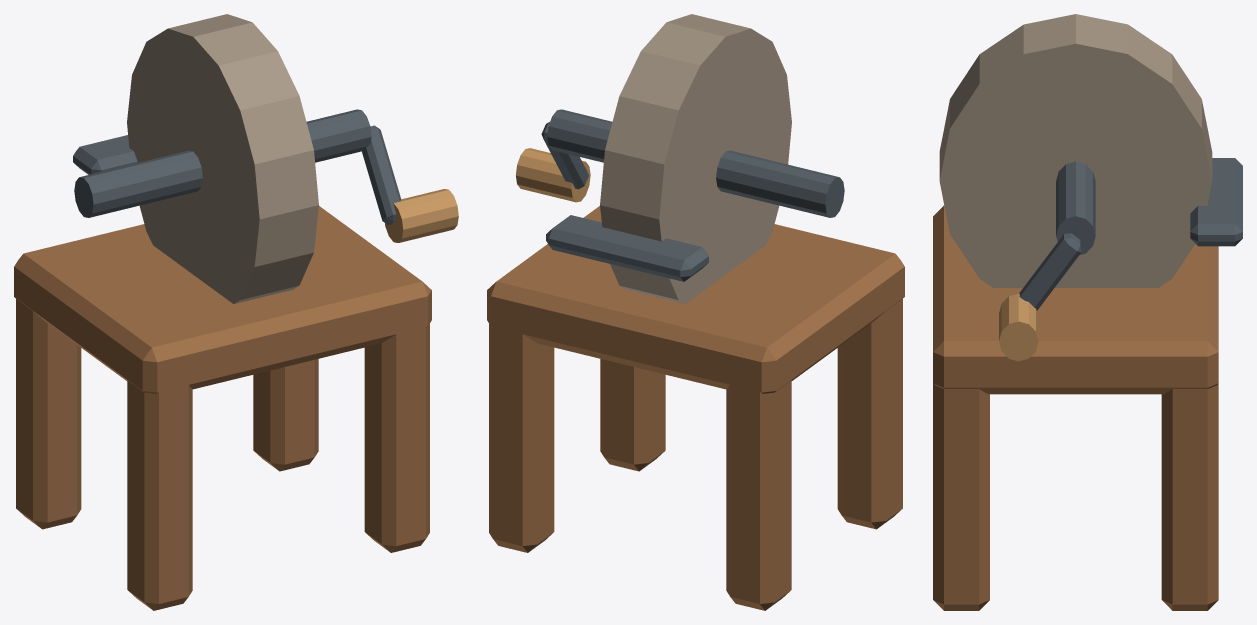
The model's file is smith_grindstone.glb.
3 views of the same model, side by side, from view 1: azimuth 30°, elevation 25°; view 2: azimuth 150°, elevation 25°; view 3: azimuth 270°, elevation 25° (orthographic). The views are drawn at different scales.
Visible parts, largest first — view 1: smith_grindstone; view 2: smith_grindstone; view 3: smith_grindstone.
Boxes of the visible parts, x1,y1,x2,y2 form: smith_grindstone: (14, 14, 458, 610); smith_grindstone: (487, 14, 904, 610); smith_grindstone: (933, 14, 1242, 610).
Bounding box in the file's own units: 0.8299 × 1.16 × 0.6325.
